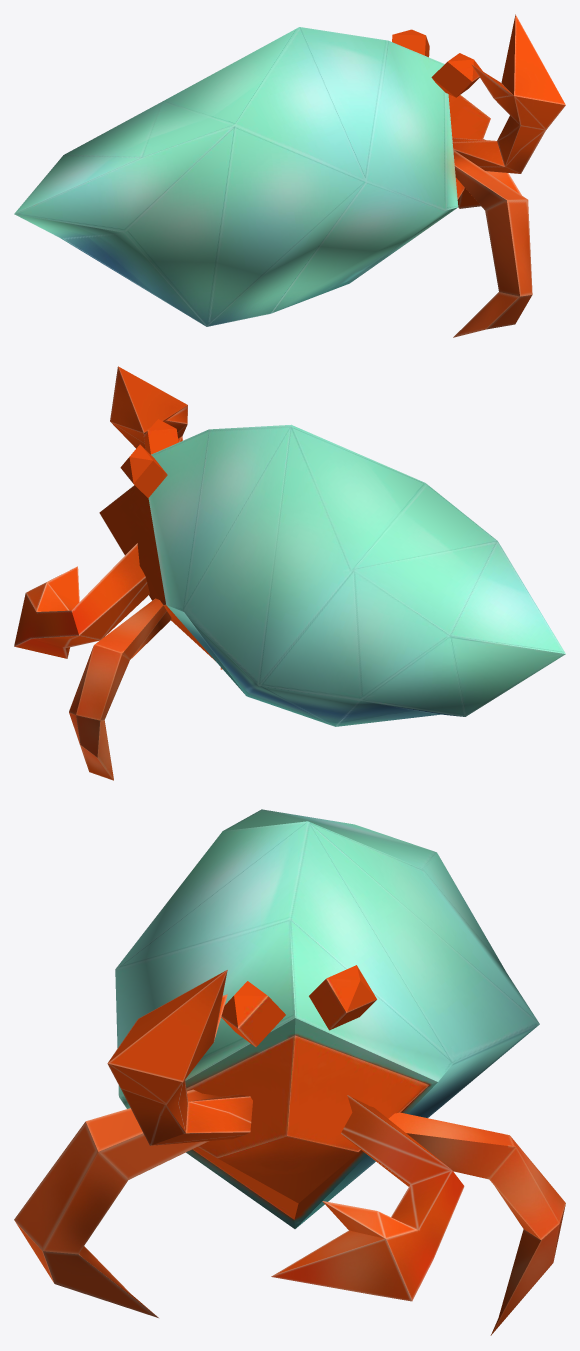
Rendered from Hermie.fbx.
3 renders of one model, top to bottom at view 1: azimuth 30°, elevation 25°; view 2: azimuth 150°, elevation 25°; view 3: azimuth 270°, elevation 25°, orthographic. The views are drawn at different scales.
Parts seen in each view (by area): view 1: Hermie_Shell, Hermie_Claw_R:Claw_R, Hermie_Leg_R:Leg_R, Hermie_Claw_L1; view 2: Hermie_Shell, Hermie_Claw_L1, Hermie_Leg_L1, Hermie_Claw_R:Claw_R; view 3: Hermie_Shell, Hermie_Claw_L1, Hermie_Leg_R:Leg_R, Hermie_Claw_R:Claw_R, Hermie_Leg_L1.
Part boxes in pixels (x1,y1,x2,y2): Hermie_Shell: [14, 27, 490, 326]; Hermie_Claw_R:Claw_R: [452, 14, 565, 173]; Hermie_Leg_R:Leg_R: [453, 150, 532, 337]; Hermie_Claw_L1: [457, 139, 521, 208]; Hermie_Shell: [99, 419, 565, 726]; Hermie_Claw_L1: [14, 543, 149, 658]; Hermie_Leg_L1: [69, 598, 171, 780]; Hermie_Claw_R:Claw_R: [110, 366, 187, 449]; Hermie_Shell: [115, 809, 539, 1228]; Hermie_Claw_L1: [271, 1095, 464, 1301]; Hermie_Leg_R:Leg_R: [14, 1089, 222, 1317]; Hermie_Claw_R:Claw_R: [107, 970, 252, 1145]; Hermie_Leg_L1: [388, 1112, 565, 1335].
Size of the model in its own units: 1.56 by 0.9264 by 1.08.
